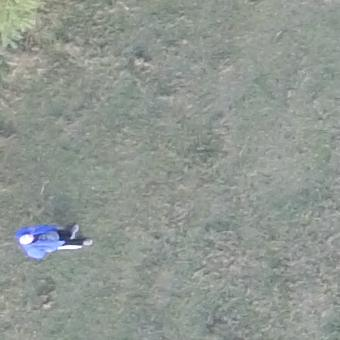human: (15, 221, 95, 261)
